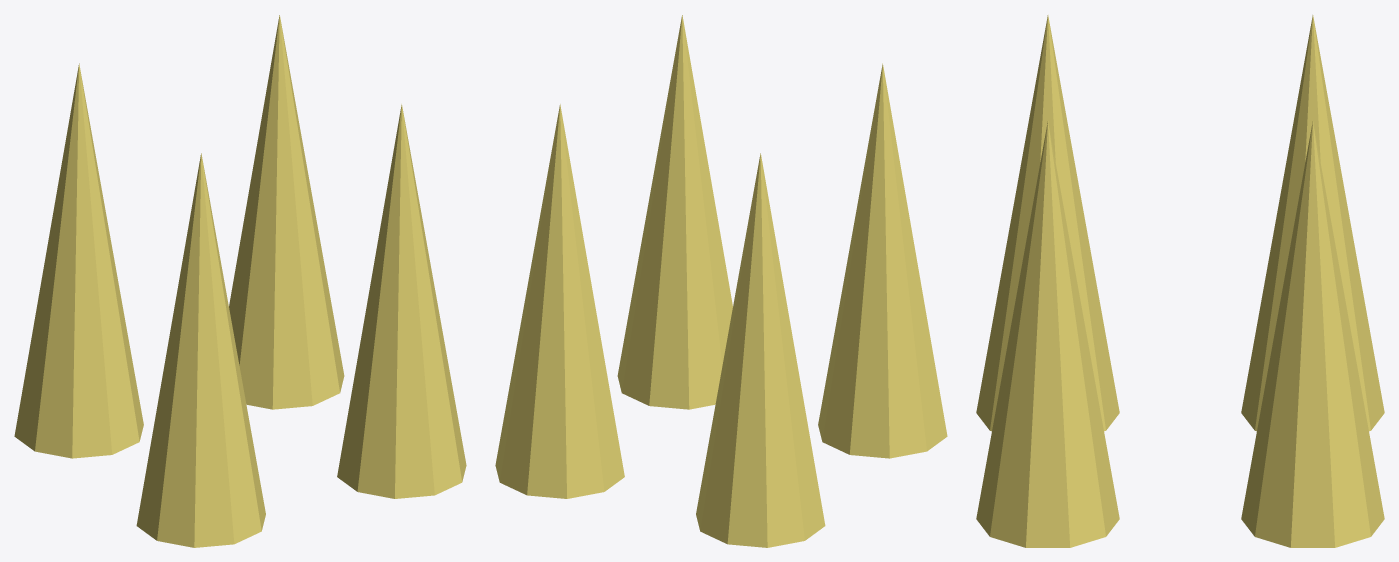
File: spike_gimmic_upper.fbx
The picture shows the model from 3 angles, left to right: view 1: azimuth 30°, elevation 25°; view 2: azimuth 150°, elevation 25°; view 3: azimuth 270°, elevation 25°; orthographic projection. The views are drawn at different scales.
Parts seen in each view (by area): view 1: Mesh; view 2: Mesh; view 3: Mesh.
Boxes of the visible parts, x1,y1,x2,y2 form: Mesh: [14, 15, 466, 547]; Mesh: [495, 15, 947, 547]; Mesh: [976, 15, 1384, 547].
Size of the model in its own units: 0.6537 by 0.7423 by 0.6888.
